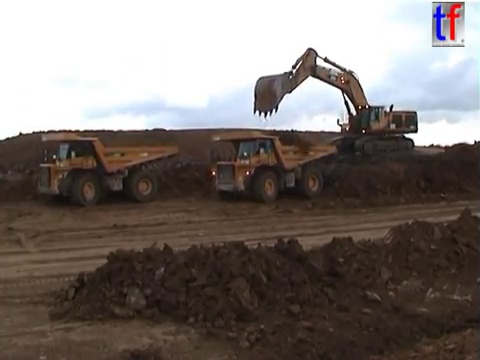excavator: (251, 45, 419, 158)
truck: (34, 130, 178, 207), (207, 129, 338, 204)
